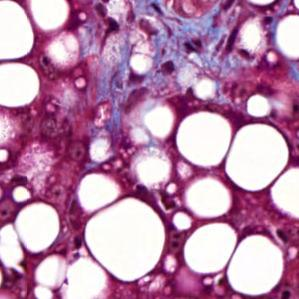steatosis: (87, 202, 170, 280), (175, 112, 227, 167), (186, 221, 235, 279)
